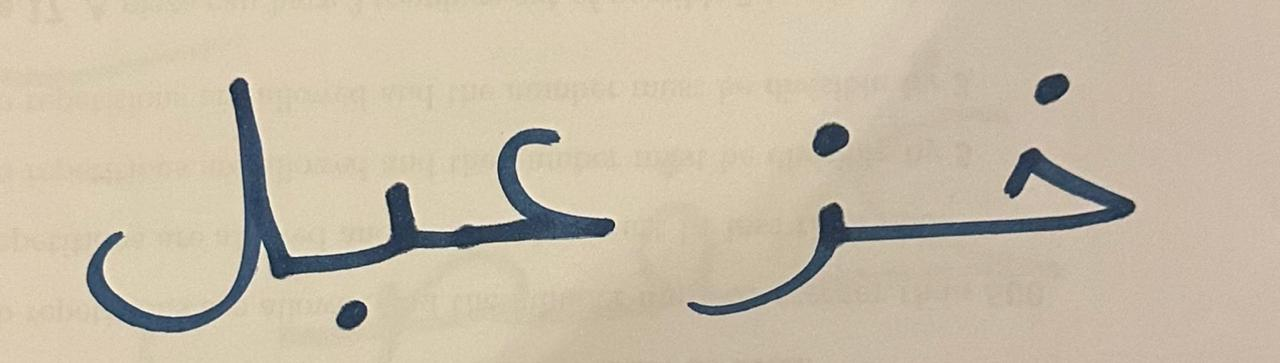ain: (437, 38, 649, 322)
beh: (291, 82, 433, 342)
hamza: (655, 72, 887, 354)
lam: (893, 7, 1186, 294)
meem: (58, 13, 286, 346)
